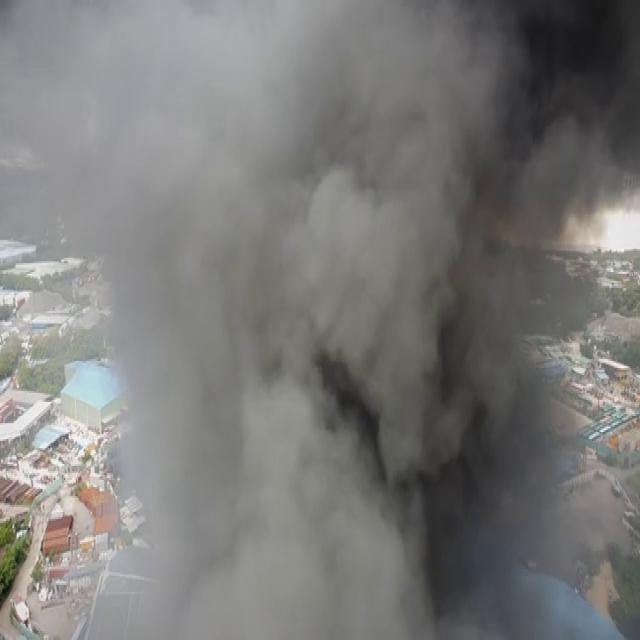smoke: (260, 208, 570, 550), (258, 3, 638, 204), (3, 8, 254, 254), (155, 263, 298, 623), (304, 555, 514, 640)
